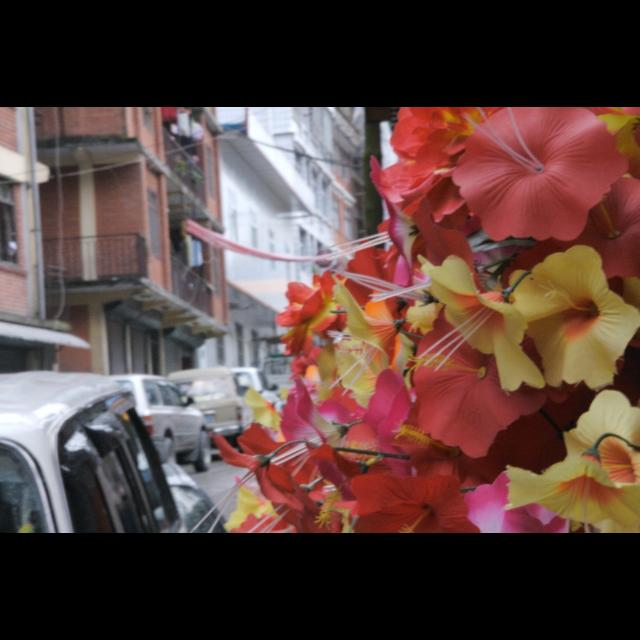Flower: (197, 108, 639, 532), (275, 276, 347, 364)
